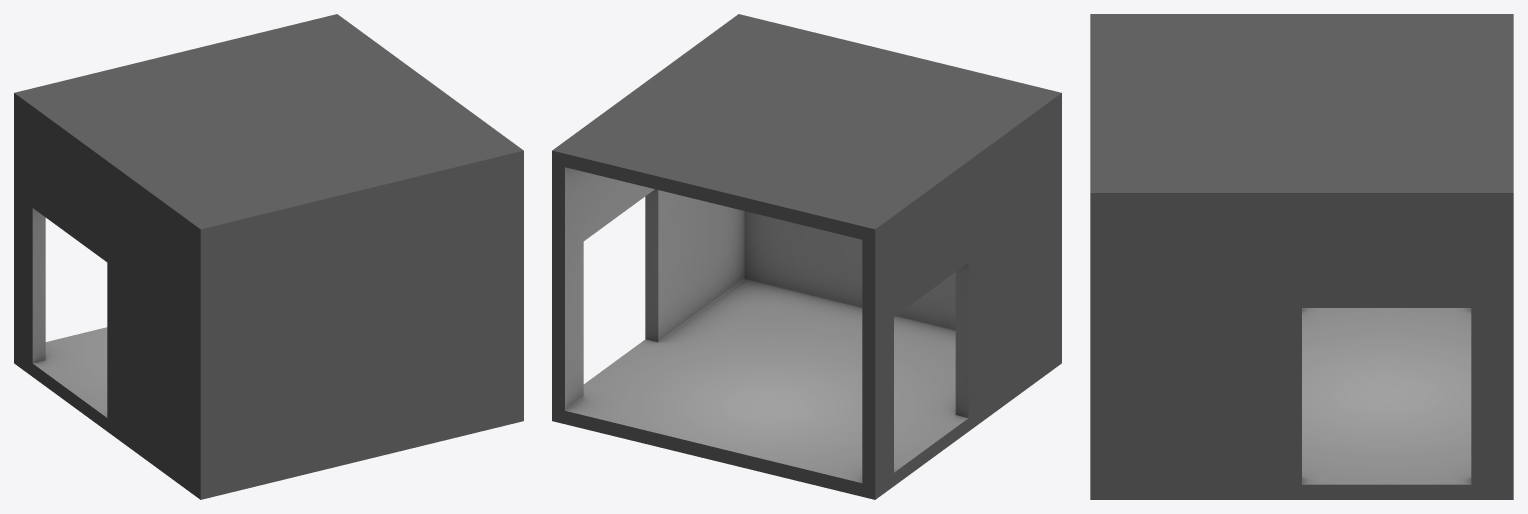
File: Room_All_Standard_Sz2.fbx
3 views of the same model, side by side, from view 1: azimuth 30°, elevation 25°; view 2: azimuth 150°, elevation 25°; view 3: azimuth 270°, elevation 25° (orthographic). The views are drawn at different scales.
Visible parts, largest first — view 1: RoomAll_Standard_Sz2; view 2: RoomAll_Standard_Sz2; view 3: RoomAll_Standard_Sz2.
Boxes of the visible parts, x1=… form: RoomAll_Standard_Sz2: x1=14, y1=14, x2=523, y2=499; RoomAll_Standard_Sz2: x1=552, y1=14, x2=1061, y2=499; RoomAll_Standard_Sz2: x1=1090, y1=14, x2=1513, y2=499.
Size of the model in its own units: 500 by 400 by 500.
1 material, 1 textured.
